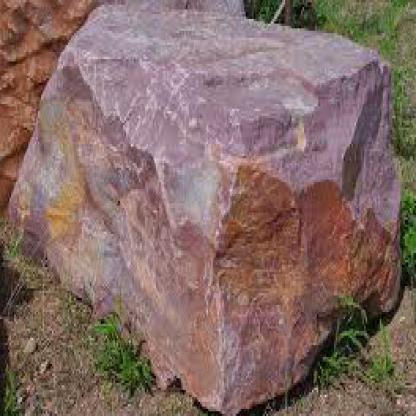Metamorphic_Quartize: (2, 5, 408, 414)
